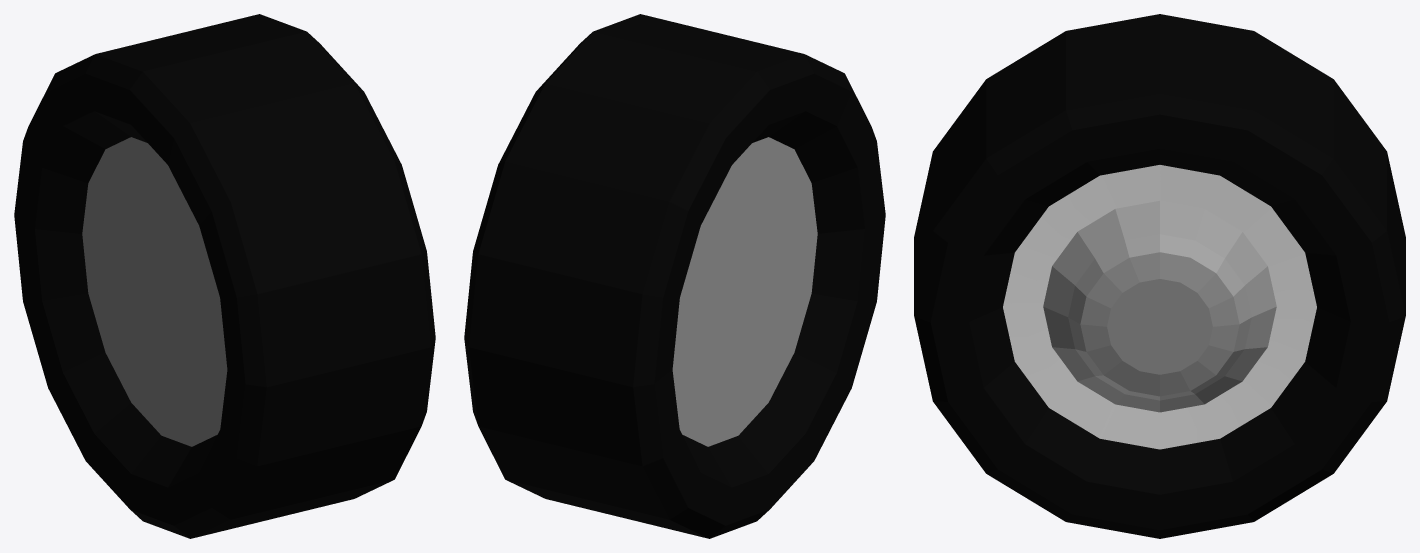
File: Surfvan_01_2.fbx
3 views of the same model, side by side, from view 1: azimuth 30°, elevation 25°; view 2: azimuth 150°, elevation 25°; view 3: azimuth 270°, elevation 25° (orthographic).
Visible parts, largest first — view 1: Surfvan_01_2; view 2: Surfvan_01_2; view 3: Surfvan_01_2.
Part boxes in pixels (left/top/right/bottom): Surfvan_01_2: left=14, top=14, right=435, bottom=538; Surfvan_01_2: left=464, top=14, right=885, bottom=538; Surfvan_01_2: left=914, top=14, right=1405, bottom=538.
Size of the model in its own units: 22.39 by 48.28 by 48.28.
